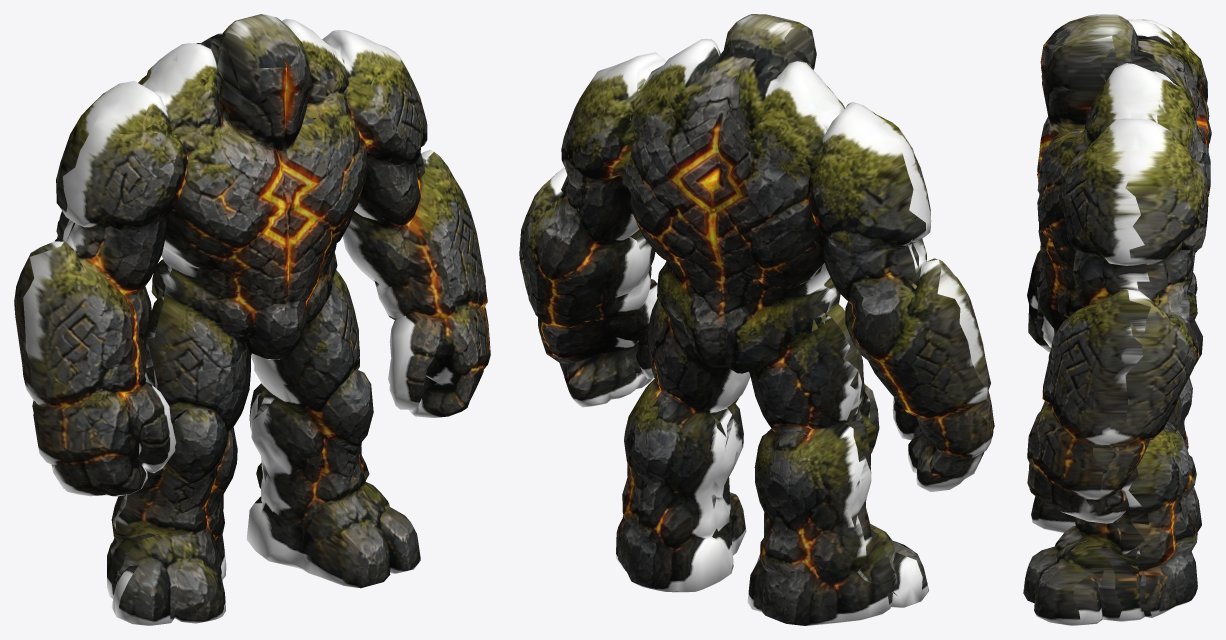
File: golem.glb
3 views of the same model, side by side, from view 1: azimuth 30°, elevation 25°; view 2: azimuth 150°, elevation 25°; view 3: azimuth 270°, elevation 25° (orthographic). The views are drawn at different scales.
Visible parts, largest first — view 1: world; view 2: world; view 3: world.
Part boxes in pixels (<box>): world: <box>14,14,490,625</box>; world: <box>519,14,994,625</box>; world: <box>1023,14,1211,625</box>.
Size of the model in its own units: 1.54 by 1.8 by 0.5689.
Materials: 1 (1 with a texture image).
